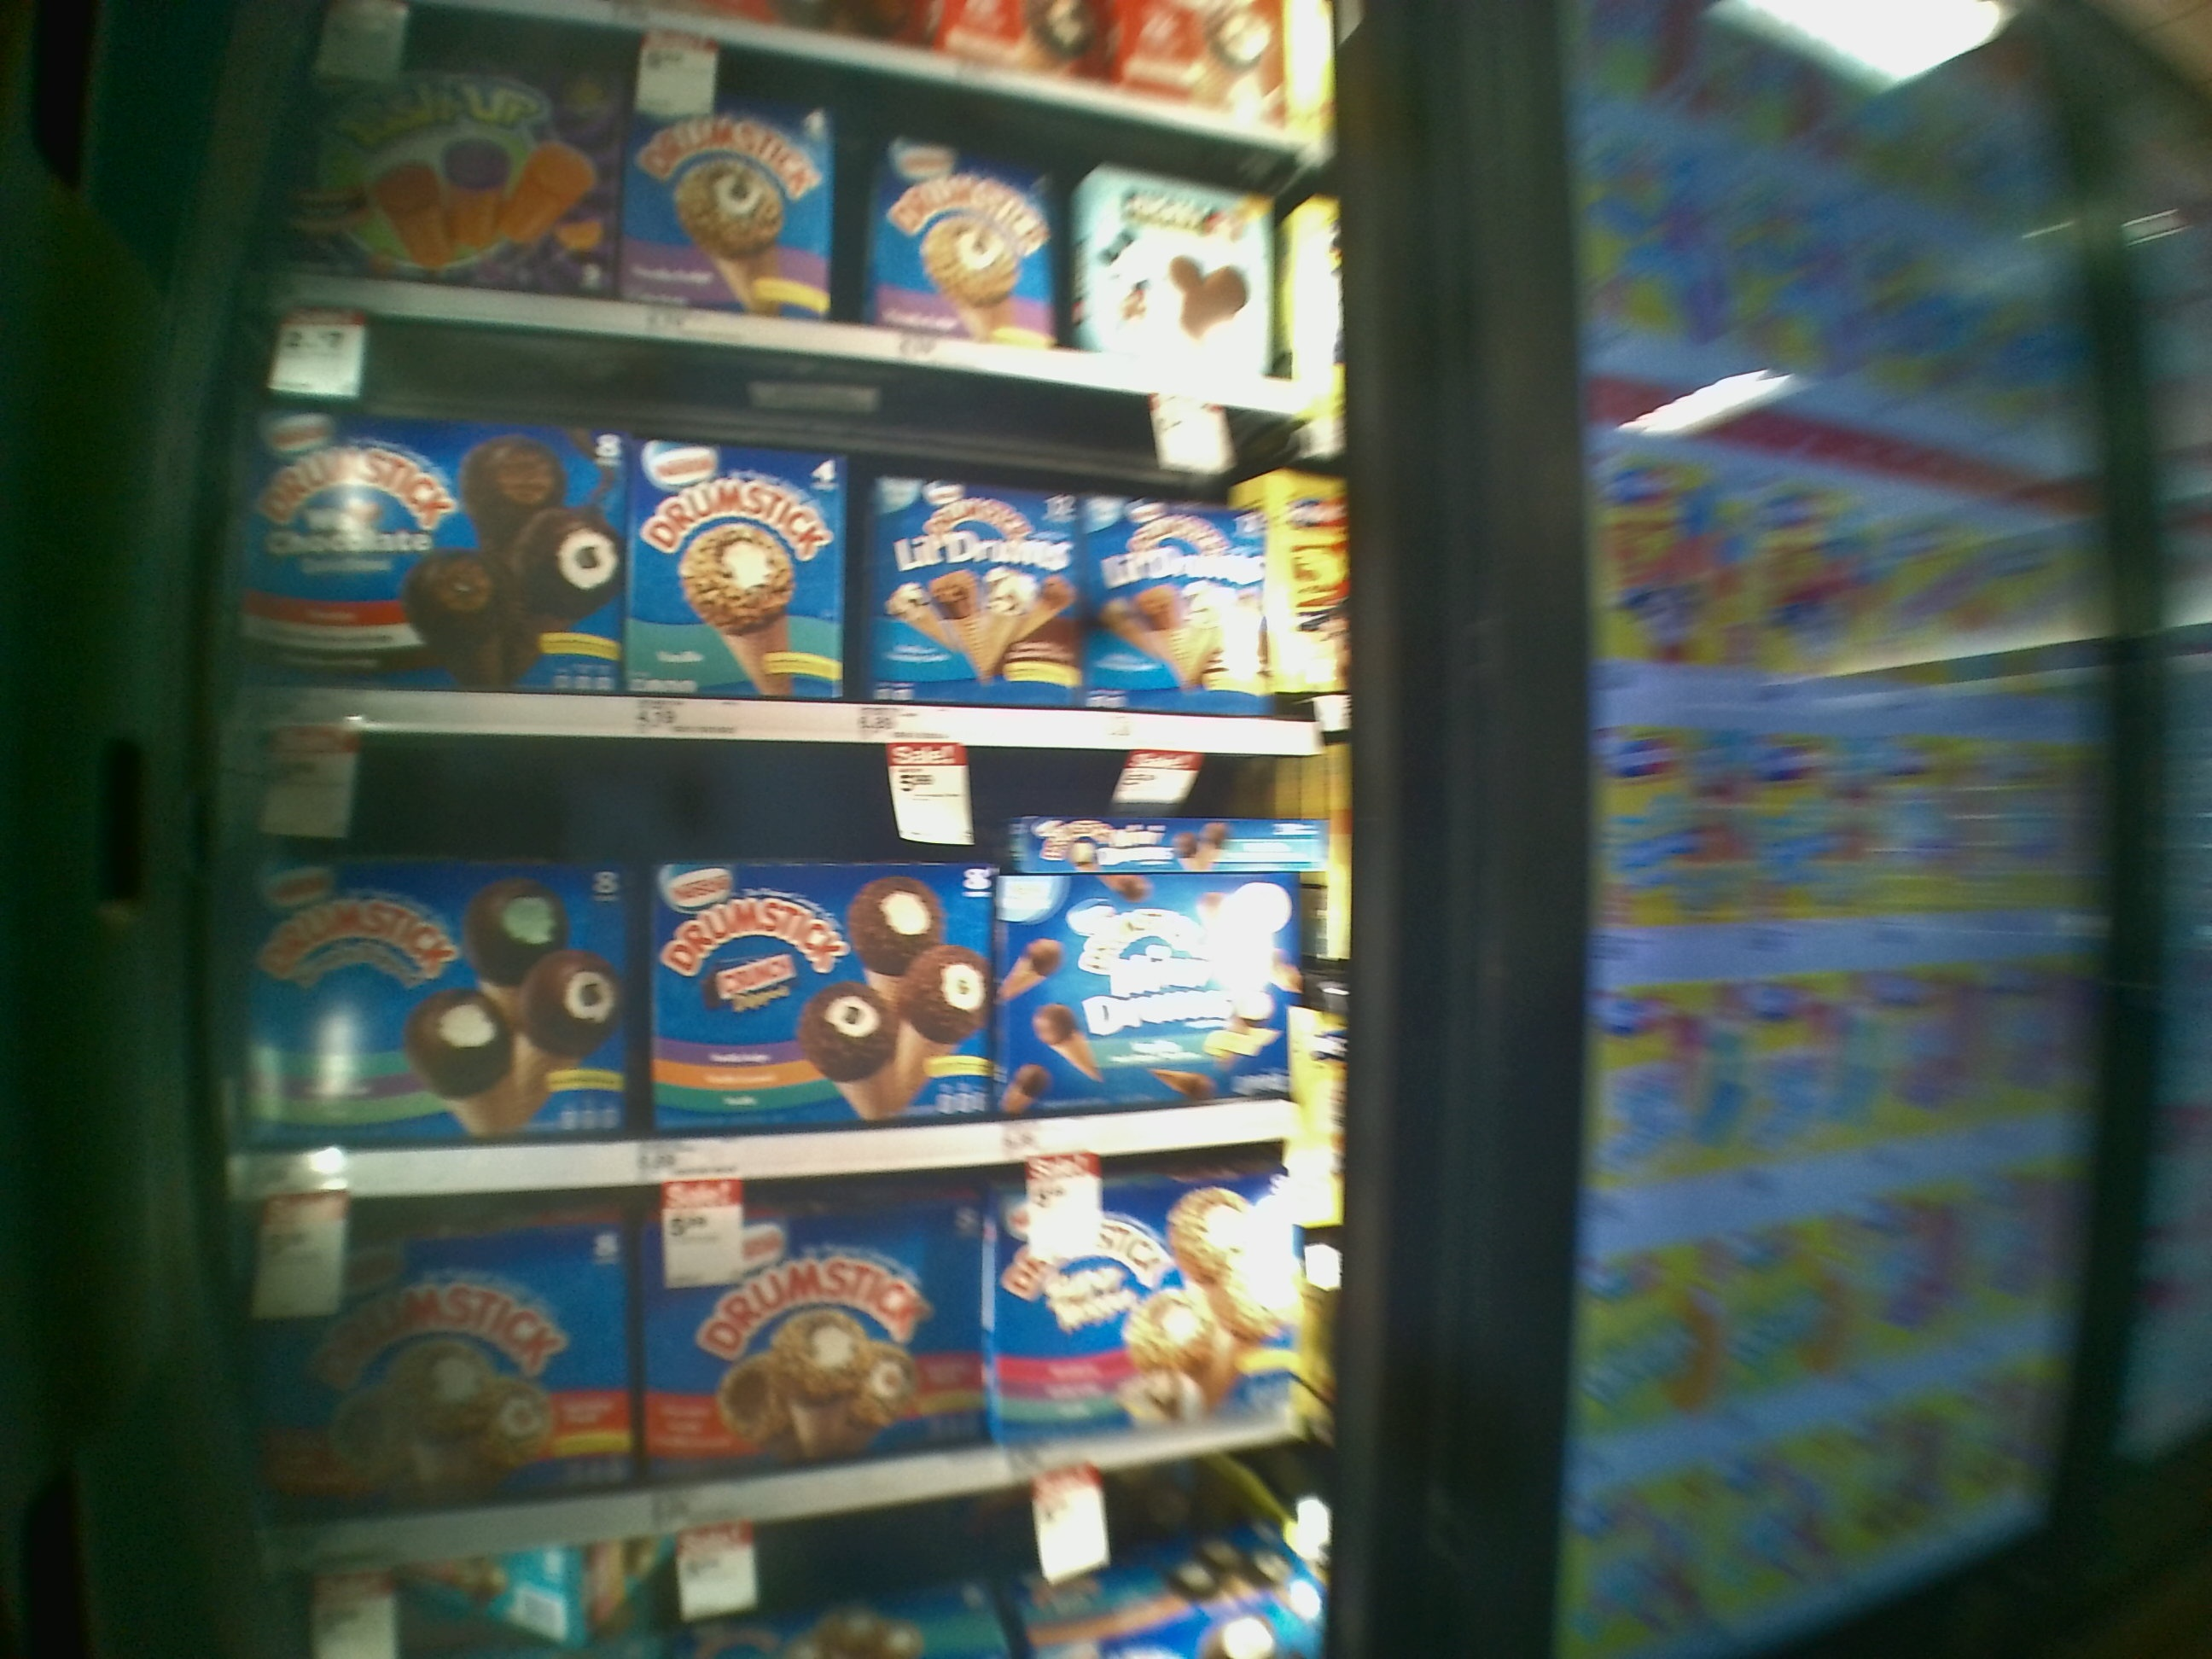shelf: (240, 732, 1362, 1190), (235, 307, 1345, 744), (244, 1126, 1348, 1565)
